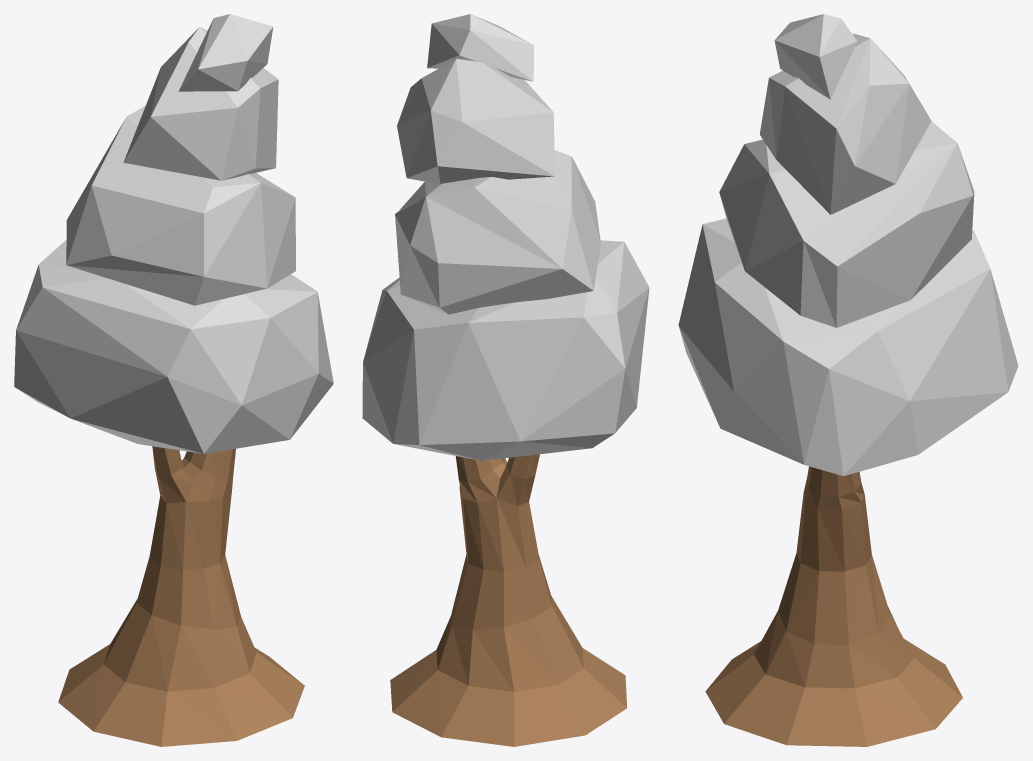
The model's file is tree_color_07a.fbx.
3 views of the same model, side by side, from view 1: azimuth 30°, elevation 25°; view 2: azimuth 150°, elevation 25°; view 3: azimuth 270°, elevation 25° (orthographic). The views are drawn at different scales.
Parts seen in each view (by area): view 1: tree_color_07; view 2: tree_color_07; view 3: tree_color_07.
Boxes of the visible parts, x1=… form: tree_color_07: x1=14, y1=14, x2=333, y2=746; tree_color_07: x1=362, y1=14, x2=649, y2=746; tree_color_07: x1=678, y1=14, x2=1018, y2=746.
Size of the model in its own units: 3.73 by 8.53 by 3.74.
